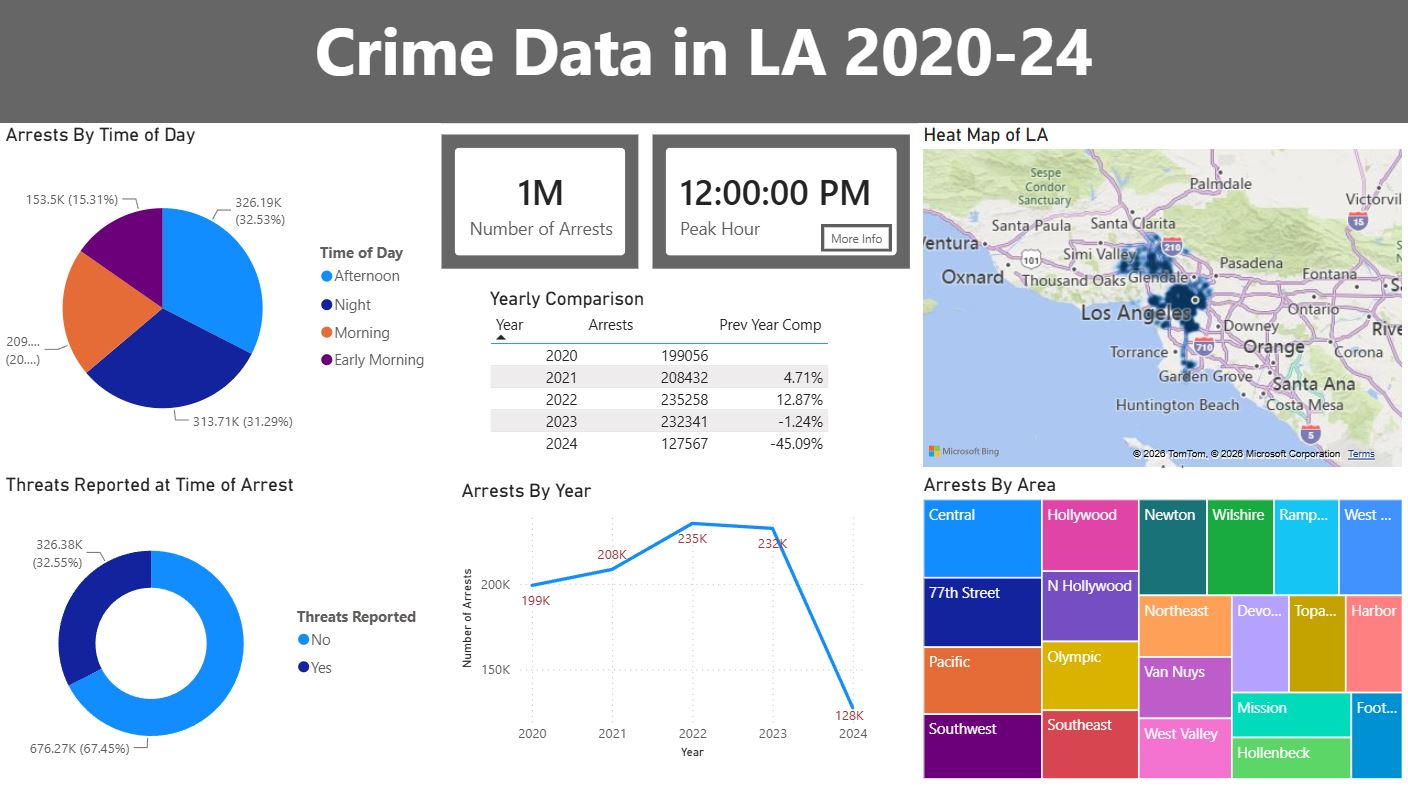

Layout of this report page (visuals, bound fields, positions):
{"tool":"powerbi","page":{"name":"Dashboard","canvas":[1280,720],"ordinal":0},"visuals":[{"type":"textbox","box":[0,0,1280,111.9],"z":0},{"type":"map","title":"Heat Map of LA","fields":{"Y":["Crime_Data_20_25.LAT"],"X":["Crime_Data_20_25.LON"],"Size":["CountNonNull(Crime_Data_20_25.Records Number)"]},"box":[834.5,111.9,445.5,318.1],"z":1000},{"type":"treemap","title":"Arrests By Area","fields":{"Group":["Area.Area Name"],"Values":["CountNonNull(Crime_Data_20_25.Records Number)"]},"box":[834.5,429.9,445.5,283],"z":2000},{"type":"lineChart","title":"Arrests By Year","fields":{"Category":["Date.Year"],"Y":["CountNonNull(Crime_Data_20_25.Records Number)"]},"box":[414.7,435.7,378.7,258.8],"z":3000},{"type":"pieChart","title":"Arrests By Time of Day","fields":{"Category":["Time in PQ.Time of Day Description"],"Y":["CountNonNull(Crime_Data_20_25.Records Number)"]},"box":[0,111.9,400.7,317.8],"z":4000},{"type":"tableEx","fields":{"Values":["Date.Year","CountNonNull(Crime_Data_20_25.Records Number)","Area.Count of Records Number YoY%"]},"box":[440.7,279.8,327.7,147.9],"z":5000},{"type":"cardVisual","fields":{"Data":["CountNonNull(Crime_Data_20_25.Records Number)"]},"box":[399.3,147.2,189.7,132.6],"z":6000},{"type":"donutChart","title":"Weapon Reported at Time of Arrest","fields":{"Category":["Crime_Data_20_25.Weapon Use"],"Y":["CountNonNull(Crime_Data_20_25.Records Number)"]},"box":[0,429.7,398.7,290.8],"z":7000},{"type":"cardVisual","fields":{"Data":["Time in PQ.Peak Hour"]},"box":[590.3,147.2,244.1,132.6],"z":8000},{"type":"actionButton","title":"More Info","box":[749.1,232.7,64.5,25.5],"z":9000}]}

Visuals, with their boxes in screenshot pixels (x1, y1, x2, y2), scaled from the page's 1280x720 canvas onto the 1408x792 screenshot:
textbox: {"left": 0, "top": 0, "right": 1407, "bottom": 123}
"Heat Map of LA" map: {"left": 918, "top": 123, "right": 1407, "bottom": 473}
"Arrests By Area" treemap: {"left": 918, "top": 473, "right": 1407, "bottom": 784}
"Arrests By Year" lineChart: {"left": 456, "top": 479, "right": 873, "bottom": 764}
"Arrests By Time of Day" pieChart: {"left": 0, "top": 123, "right": 441, "bottom": 473}
tableEx - Date.Year x CountNonNull(Crime_Data_20_25.Records Number): {"left": 485, "top": 308, "right": 845, "bottom": 470}
cardVisual - CountNonNull(Crime_Data_20_25.Records Number): {"left": 439, "top": 162, "right": 648, "bottom": 308}
"Weapon Reported at Time of Arrest" donutChart: {"left": 0, "top": 473, "right": 439, "bottom": 791}
cardVisual - Time in PQ.Peak Hour: {"left": 649, "top": 162, "right": 918, "bottom": 308}
"More Info" actionButton: {"left": 824, "top": 256, "right": 895, "bottom": 284}
